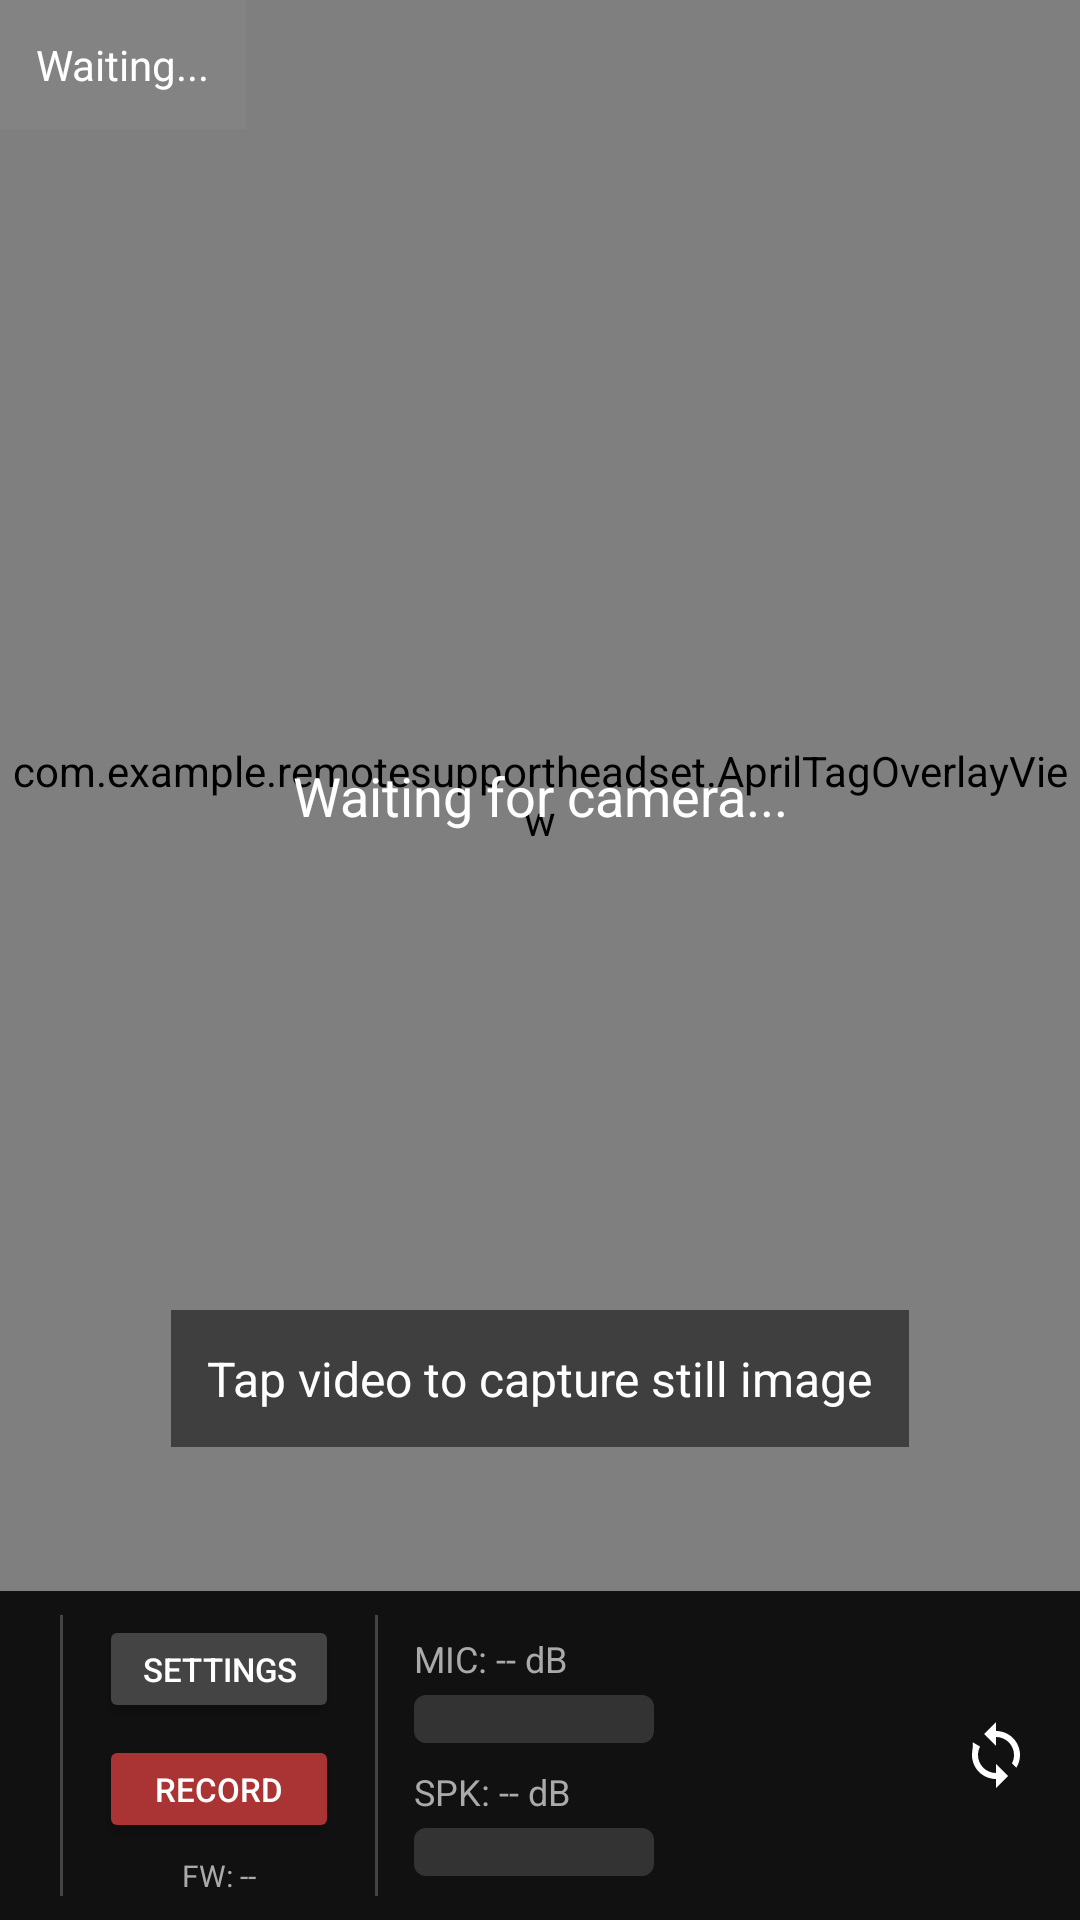

Icons on this 1080×1920 Android screen, each with the point to tap as point (x, y):
Rotate screen: point (996, 1755)
